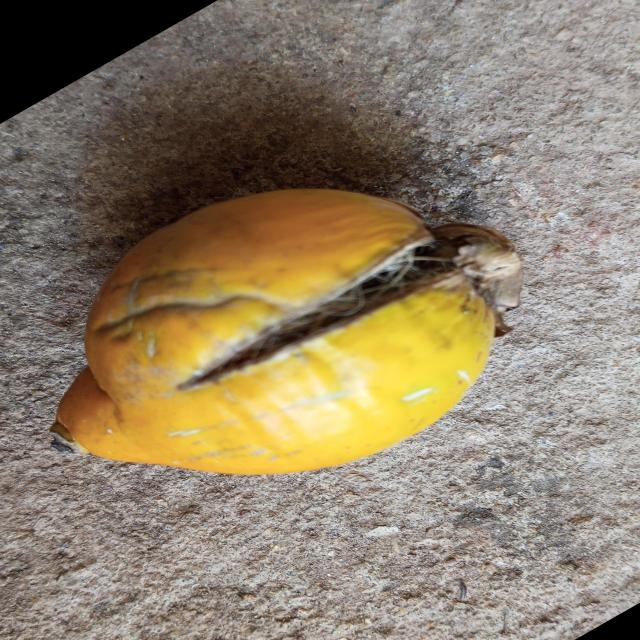damaged: (51, 189, 523, 474)
